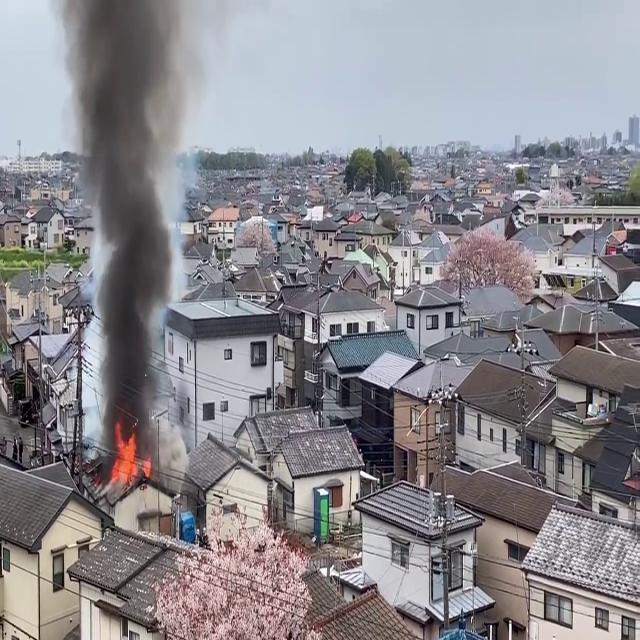Fire: (108, 422, 144, 488)
Smoke: (68, 0, 192, 462)
